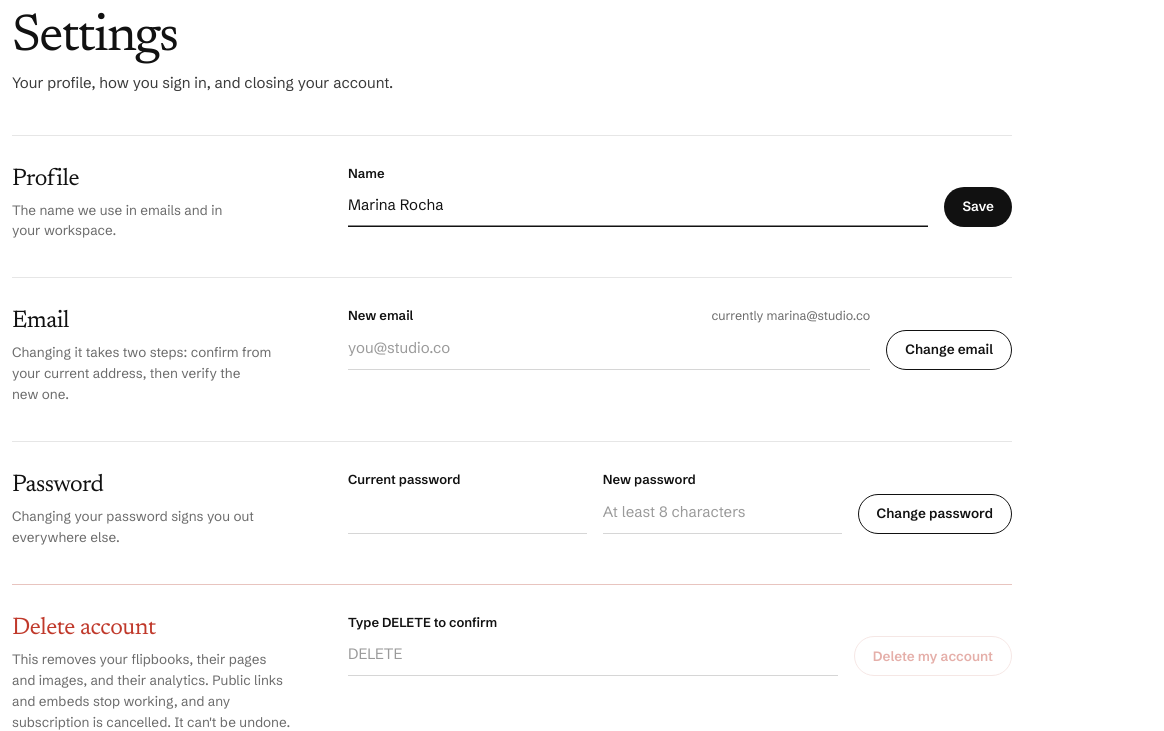
Test: account settings › saves a new name
Replace the text in the field labelled "Name" with "Marina R." at point(638, 205), box [348,183,928,227]
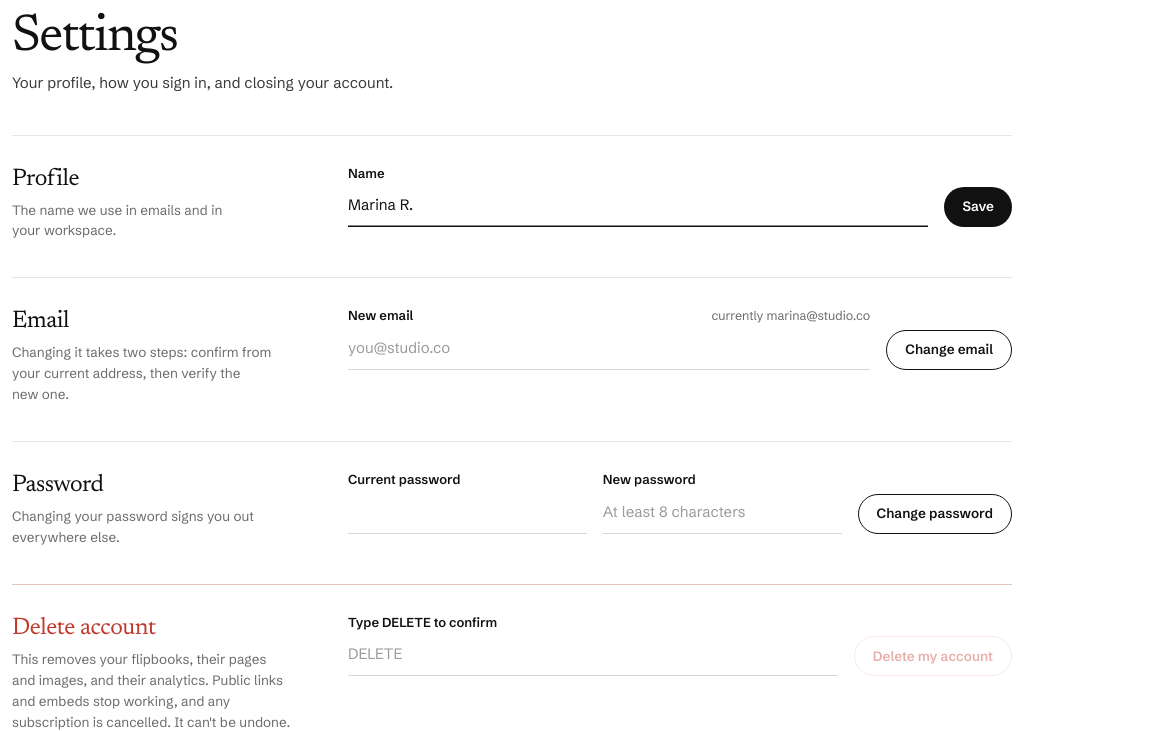
Click the button "Save" at point(978, 207), box [944,187,1012,227]
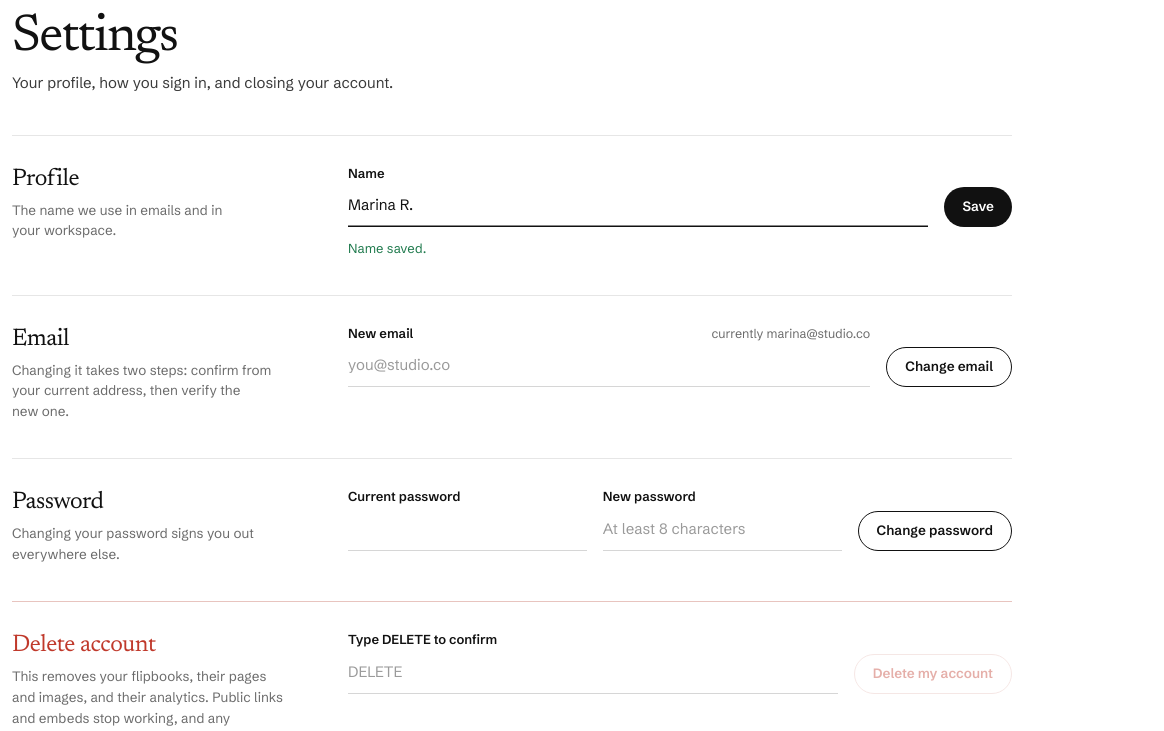
Now the message reads "Name saved.", box [348,240,426,256]
